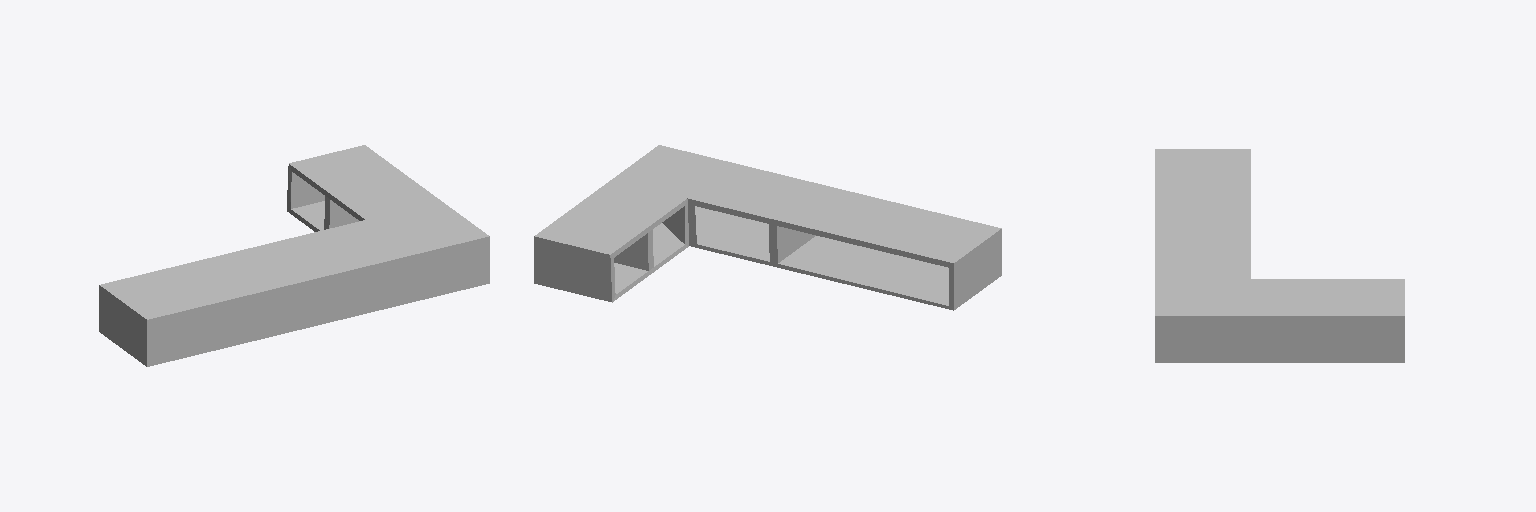
The model's file is under_counter_cupboard_2.obj.
The picture shows the model from 3 angles: view 1: azimuth 30°, elevation 25°; view 2: azimuth 150°, elevation 25°; view 3: azimuth 270°, elevation 25°; orthographic projection.
Visible parts, largest first — view 1: under_counter_cupboard under_counter_cupboards1; view 2: under_counter_cupboard under_counter_cupboards1; view 3: under_counter_cupboard under_counter_cupboards1.
Part boxes in pixels (x1,y1,x2,y2): under_counter_cupboard under_counter_cupboards1: (99,145,489,366); under_counter_cupboard under_counter_cupboards1: (534,145,1001,310); under_counter_cupboard under_counter_cupboards1: (1155,149,1404,362).
Size of the model in its own units: 35.91 by 4.73 by 22.69.